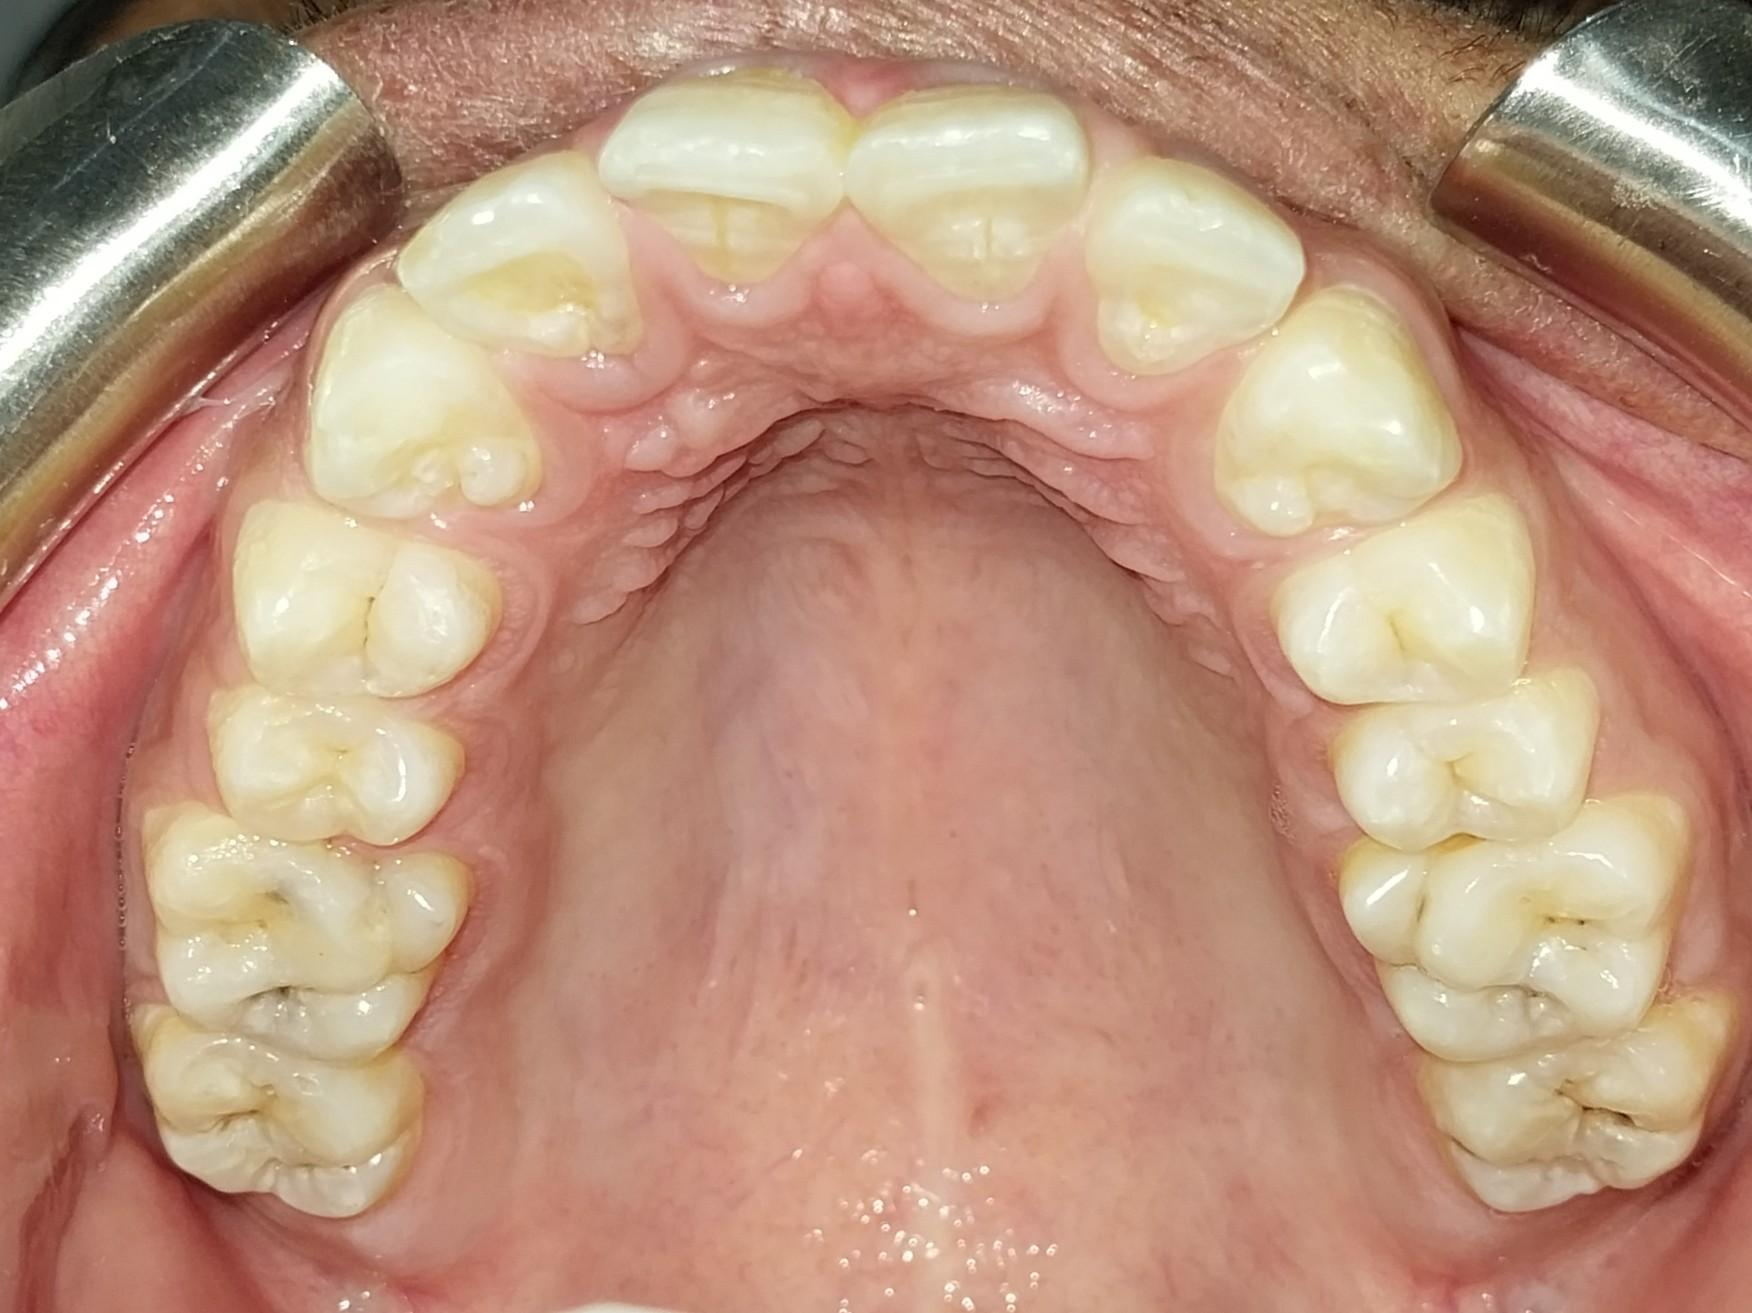D: (1344, 802, 1687, 1063), (141, 799, 476, 1062), (1419, 989, 1725, 1213)
